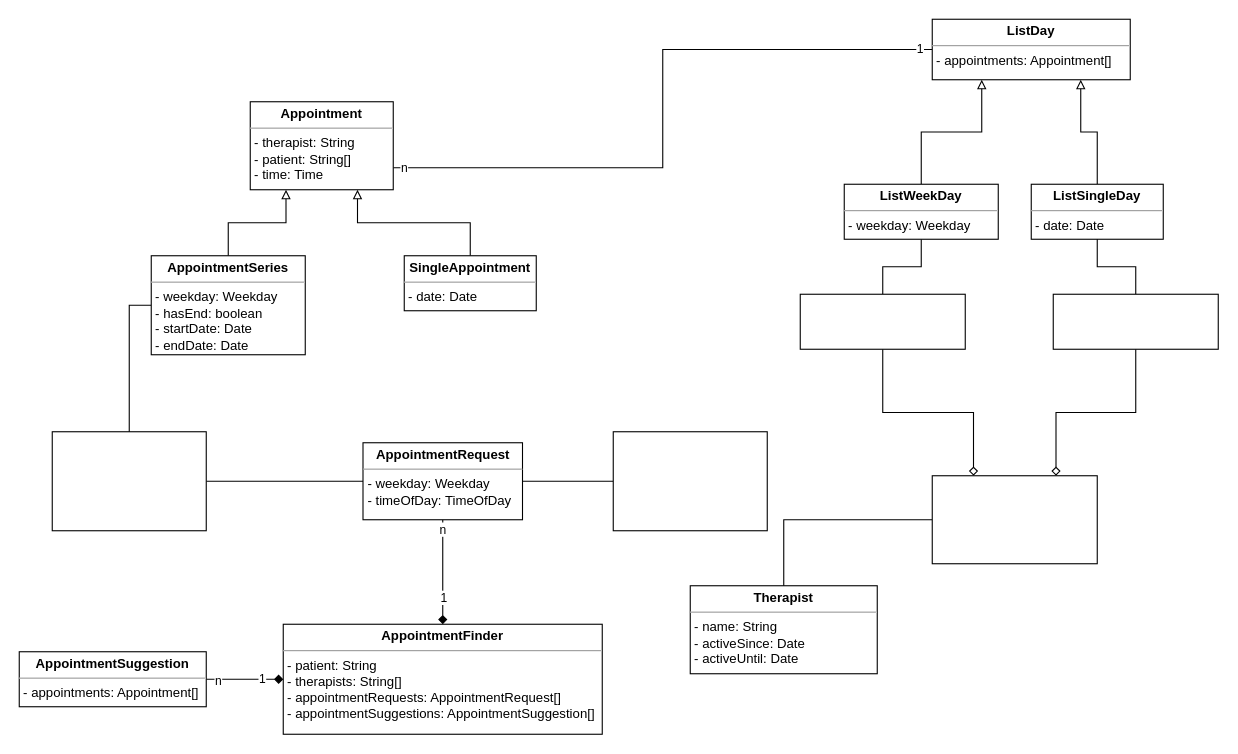
Some shapes in this 1238 by 754 pixel diagram are drawn without their labels. The box of each missing label's shape, as (x1, y1, x2, y2) in pixels:
Backup - createdDate: Date - masterlist: Masterlist - daylist: Daylist: (931, 475, 1097, 564)
Daylist - elements: ListSingleDay[]: (1052, 293, 1218, 349)
Masterlist - elements: ListWeekDay[]: (799, 293, 965, 349)
TimeOfDay ["Morgens", "Vormittags", "Mittags", "Nachmittags", "Abends"]: (612, 431, 767, 531)
Weekday ["Montag", "Dienstag", "Mittwoch", "Donnerstag", "Freitag"]: (51, 431, 206, 531)
